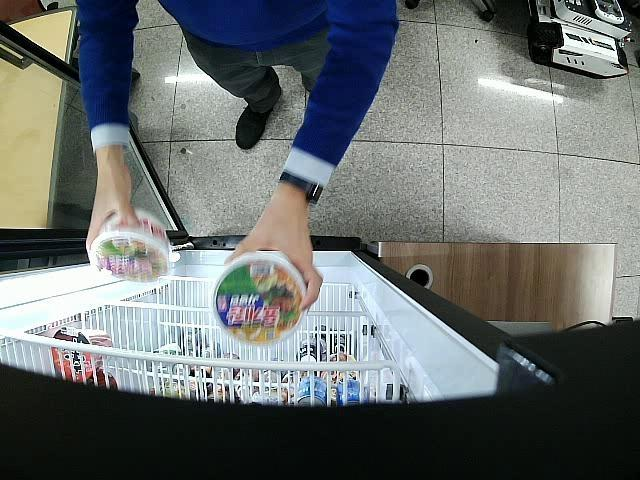09_yukGaeJang: (214, 253, 308, 345), (90, 211, 174, 282)
